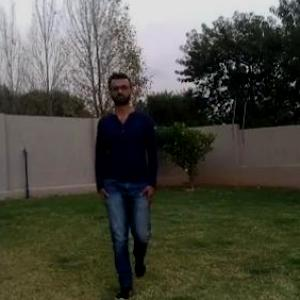follow: (103, 84, 153, 281)
